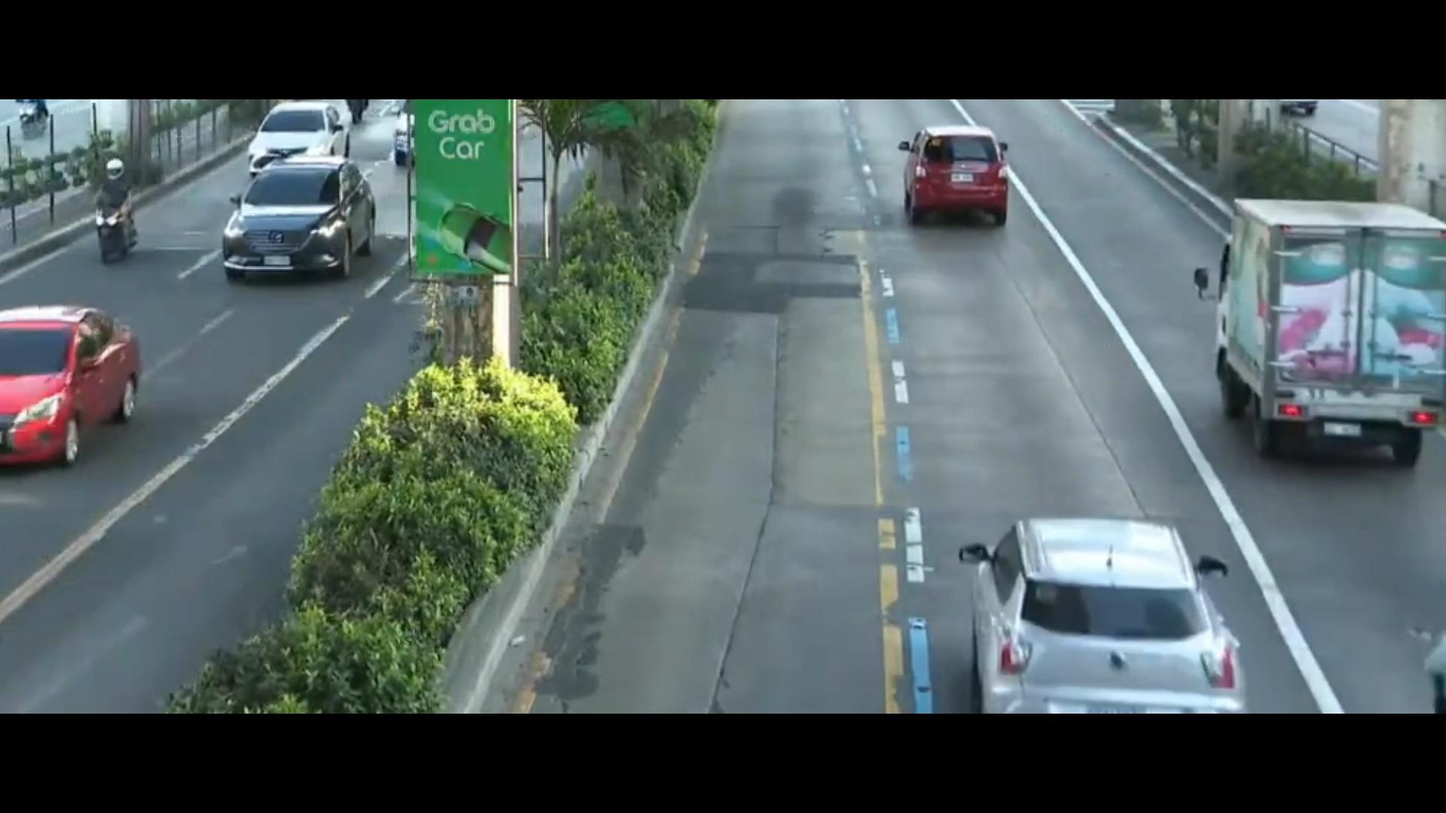Motorcycle: (78, 162, 153, 271)
SUV: (914, 493, 1271, 730), (224, 100, 360, 174)
Sedan: (0, 286, 164, 498), (205, 158, 401, 286), (889, 108, 1024, 239)
Truck: (1160, 149, 1446, 525)
